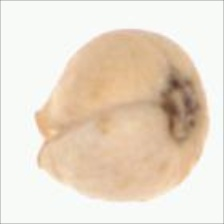L3: (31, 108, 48, 173)
L4: (34, 29, 209, 201)
